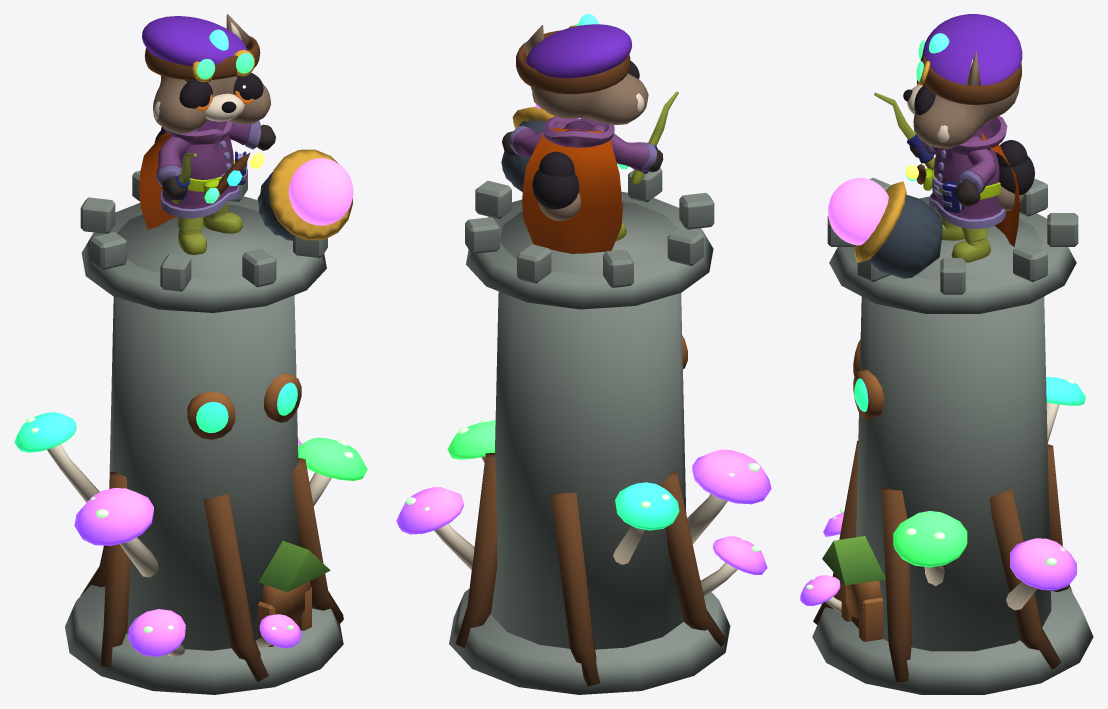
The model's file is tower_badger_corrosion.glb.
The picture shows the model from 3 angles, left to right: view 1: azimuth 30°, elevation 25°; view 2: azimuth 150°, elevation 25°; view 3: azimuth 270°, elevation 25°; orthographic projection.
Visible parts, largest first — view 1: CustomTowerBase_badger_corrosion, Mage_Body, NativeHat_RkBeret, RaccoonBrewCore, RkHead, RaccoonMortarCollar, Mage_Cape, NativeHat_RkBand, Mage_ArmRight, Mage_ArmLeft, Mage_LegRight, RaccoonMortarTube (+4 smaller); view 2: CustomTowerBase_badger_corrosion, Mage_Cape, NativeHat_RkBeret, RkHead, NativeHat_RkBand, Mage_Body, RaccoonTailSeg_3, Mage_ArmRight, Mage_ArmLeft, RaccoonMortarTube, RaccoonTailSeg_4, 1H_Wand; view 3: CustomTowerBase_badger_corrosion, NativeHat_RkBeret, Mage_Body, RaccoonMortarTube, RaccoonBrewCore, RkHead, NativeHat_RkBand, Mage_ArmLeft, RaccoonMortarCollar, Mage_LegLeft, RaccoonTailSeg_3, Mage_Cape (+2 smaller).
Boxes of the visible parts, x1,y1,x2,y2 form: CustomTowerBase_badger_corrosion: (14, 168, 367, 694); Mage_Body: (160, 119, 247, 218); NativeHat_RkBeret: (142, 16, 247, 65); RaccoonBrewCore: (288, 158, 353, 225); RkHead: (153, 75, 270, 134); RaccoonMortarCollar: (268, 149, 352, 240); Mage_Cape: (139, 132, 175, 229); NativeHat_RkBand: (144, 36, 260, 79); Mage_ArmRight: (156, 129, 197, 199); Mage_ArmLeft: (215, 120, 275, 150); Mage_LegRight: (177, 217, 206, 254); RaccoonMortarTube: (257, 172, 293, 240); CustomTowerBase_badger_corrosion: (396, 168, 771, 694); Mage_Cape: (522, 127, 622, 253); NativeHat_RkBeret: (526, 24, 632, 78); RkHead: (531, 73, 648, 124); NativeHat_RkBand: (516, 30, 630, 94); Mage_Body: (542, 116, 623, 210); RaccoonTailSeg_3: (532, 169, 579, 209); Mage_ArmRight: (592, 124, 663, 172); Mage_ArmLeft: (502, 121, 566, 156); RaccoonMortarTube: (501, 119, 545, 191); RaccoonTailSeg_4: (539, 151, 574, 176); 1H_Wand: (631, 91, 678, 184); CustomTowerBase_badger_corrosion: (800, 177, 1093, 694); NativeHat_RkBeret: (922, 14, 1022, 85); Mage_Body: (922, 116, 1007, 228); RaccoonMortarTube: (868, 194, 942, 278); RaccoonBrewCore: (828, 178, 888, 245); RkHead: (913, 83, 1019, 148); NativeHat_RkBand: (921, 55, 1021, 104); Mage_ArmLeft: (955, 136, 996, 206); RaccoonMortarCollar: (854, 181, 906, 262); Mage_LegLeft: (951, 227, 990, 262); RaccoonTailSeg_3: (999, 155, 1034, 194); Mage_Cape: (979, 129, 1019, 246).
Bounding box in the file's own units: 1.18 × 2.31 × 1.01.
Materials: 25 (3 with a texture image).
